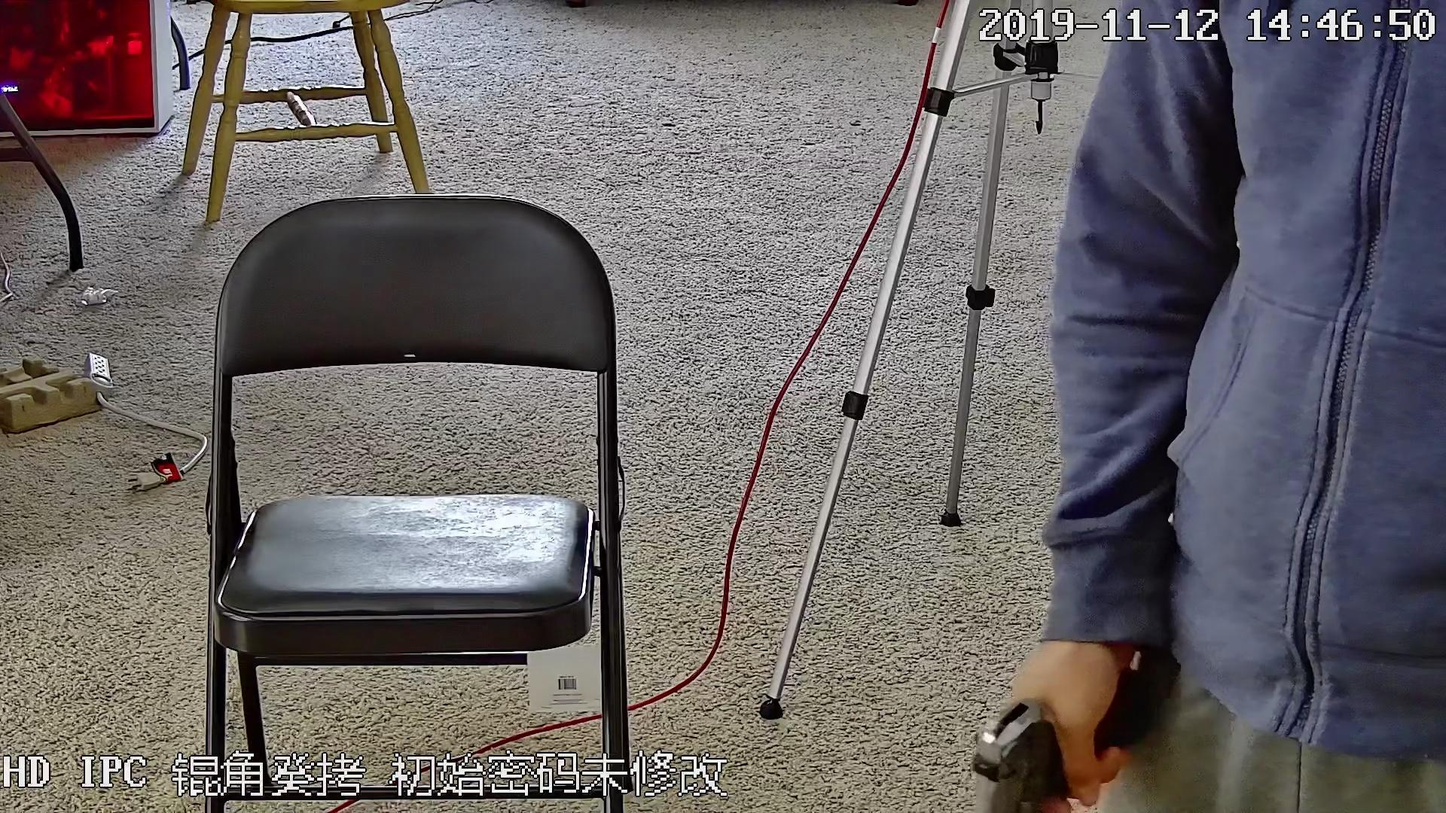gun: (911, 607, 1172, 812)
